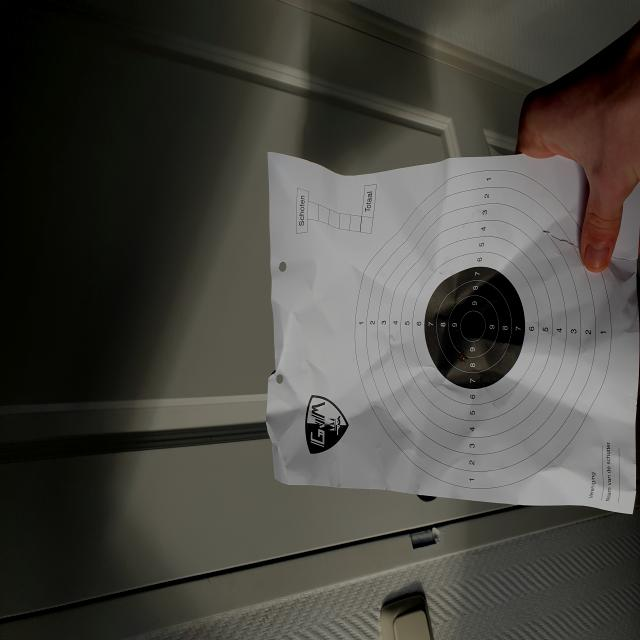9: (458, 351, 468, 363)
Target: (354, 166, 612, 488)
black_contour: (426, 266, 526, 389)
